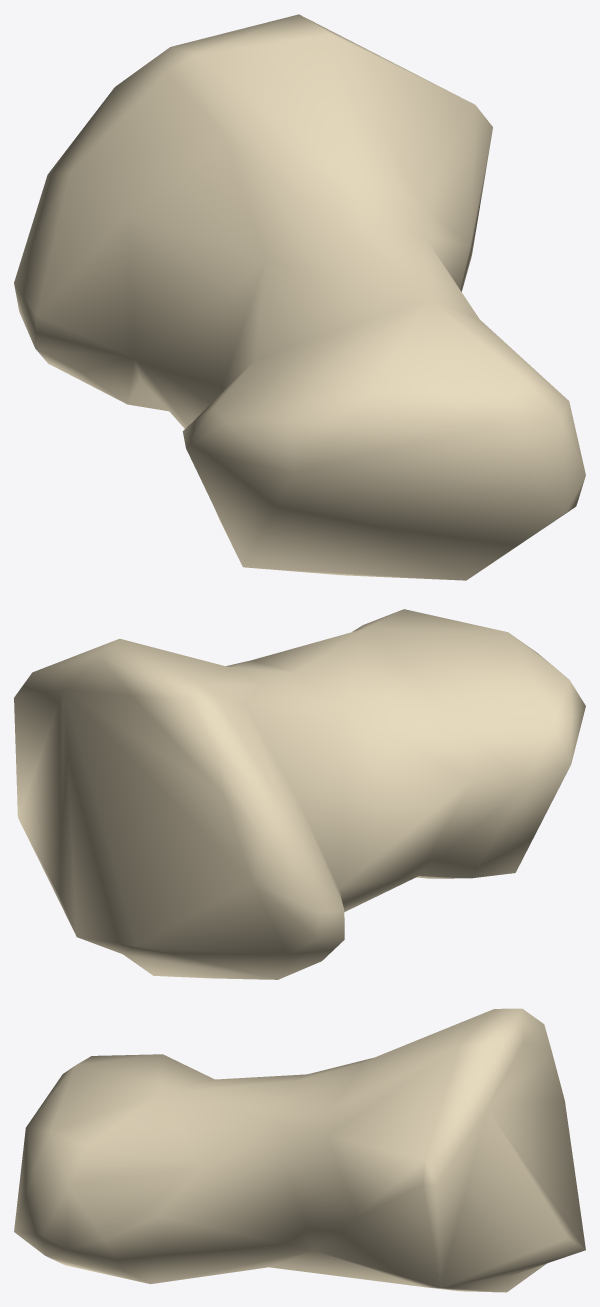
Rendered from esqueleto-distal-phalanx-of-second-finger-of-foot-r.glb.
The picture shows the model from 3 angles, top to bottom: view 1: azimuth 30°, elevation 25°; view 2: azimuth 150°, elevation 25°; view 3: azimuth 270°, elevation 25°; orthographic projection. The views are drawn at different scales.
Parts seen in each view (by area): view 1: Distal phalanx of second finger of foot.r; view 2: Distal phalanx of second finger of foot.r; view 3: Distal phalanx of second finger of foot.r.
Boxes of the visible parts, x1,y1,x2,y2 form: Distal phalanx of second finger of foot.r: (14,14,585,580); Distal phalanx of second finger of foot.r: (14,609,585,979); Distal phalanx of second finger of foot.r: (14,1008,585,1292).
Bounding box in the file's own units: 0.0102 × 0.00758 × 0.0137.
